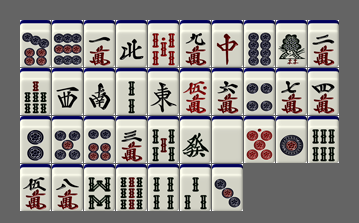0m: (180, 68, 211, 115)
0p: (244, 116, 275, 163)
0s: (148, 20, 179, 67)
1m: (84, 20, 115, 67)
1p: (276, 116, 307, 163)
1s: (276, 20, 307, 67)
1z: (148, 68, 179, 115)
2m: (308, 20, 339, 67)
2p: (20, 116, 51, 163)
2s: (116, 68, 147, 115)
2z: (84, 68, 115, 115)
3m: (116, 116, 147, 163)
3p: (212, 164, 243, 211)
3s: (180, 164, 211, 211)
3z: (52, 68, 83, 115)
4m: (308, 68, 339, 115)
4p: (244, 68, 275, 115)
4s: (148, 164, 179, 211)
4z: (116, 20, 147, 67)
5m: (20, 164, 51, 211)
5p: (52, 116, 83, 163)
5s: (148, 116, 179, 163)
5z: (212, 116, 243, 163)
6m: (212, 68, 243, 115)
6p: (84, 116, 115, 163)
6s: (308, 116, 339, 163)
6z: (180, 116, 211, 163)
7m: (276, 68, 307, 115)
7p: (20, 20, 51, 67)
7s: (20, 68, 51, 115)
7z: (212, 20, 243, 67)
8m: (52, 164, 83, 211)
8p: (244, 20, 275, 67)
8s: (84, 164, 115, 211)
9m: (180, 20, 211, 67)
9p: (52, 20, 83, 67)
9s: (116, 164, 147, 211)
